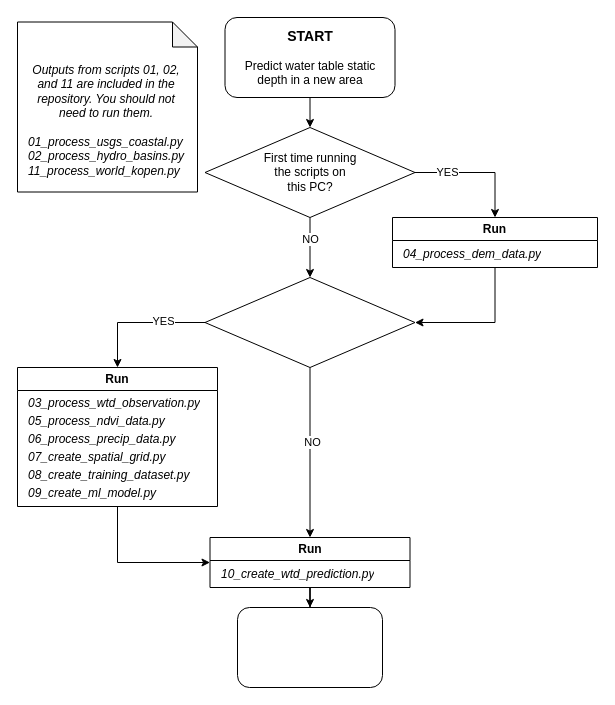
Image size: 615x705. Some labels were removed from this diagram. Each missing label, with the box of its shape:
END Water table static depth predicted: (236, 606, 382, 688)
New groundwater depth observations?: (204, 276, 415, 368)
Note: (16, 21, 198, 192)
